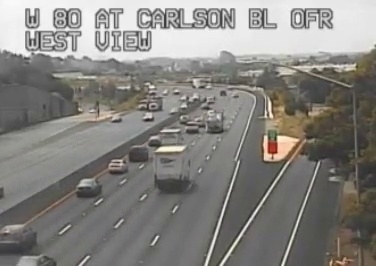car: (1, 224, 36, 252), (75, 178, 101, 197), (128, 146, 148, 162), (107, 159, 126, 174), (149, 136, 161, 146)
small-truck: (153, 145, 189, 186), (160, 129, 181, 144)
